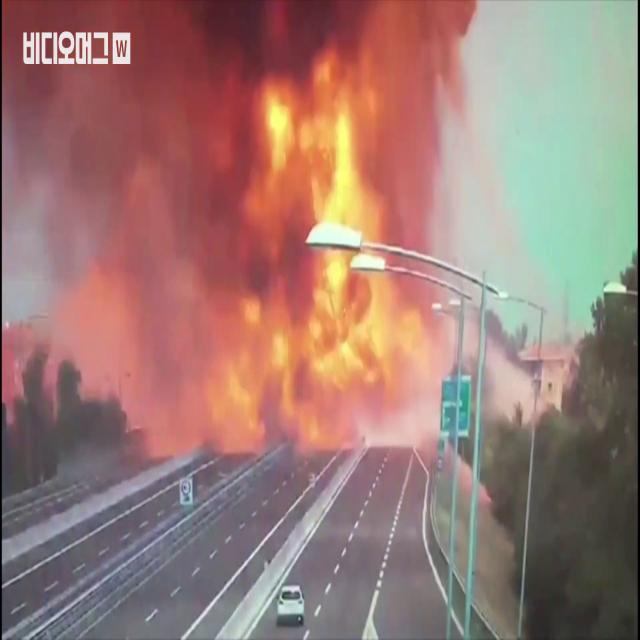explosion: (0, 6, 506, 529)
